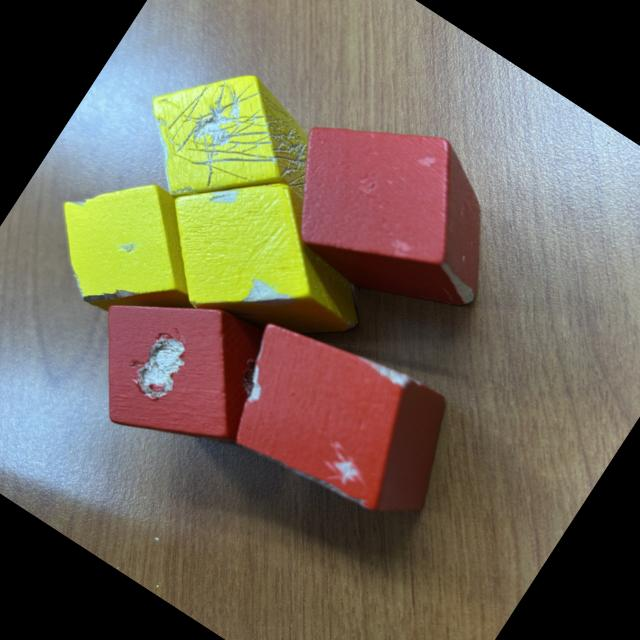broken: (250, 74, 540, 346), (200, 292, 480, 550), (129, 136, 401, 389), (54, 249, 300, 488), (111, 34, 345, 258), (21, 145, 241, 355)
